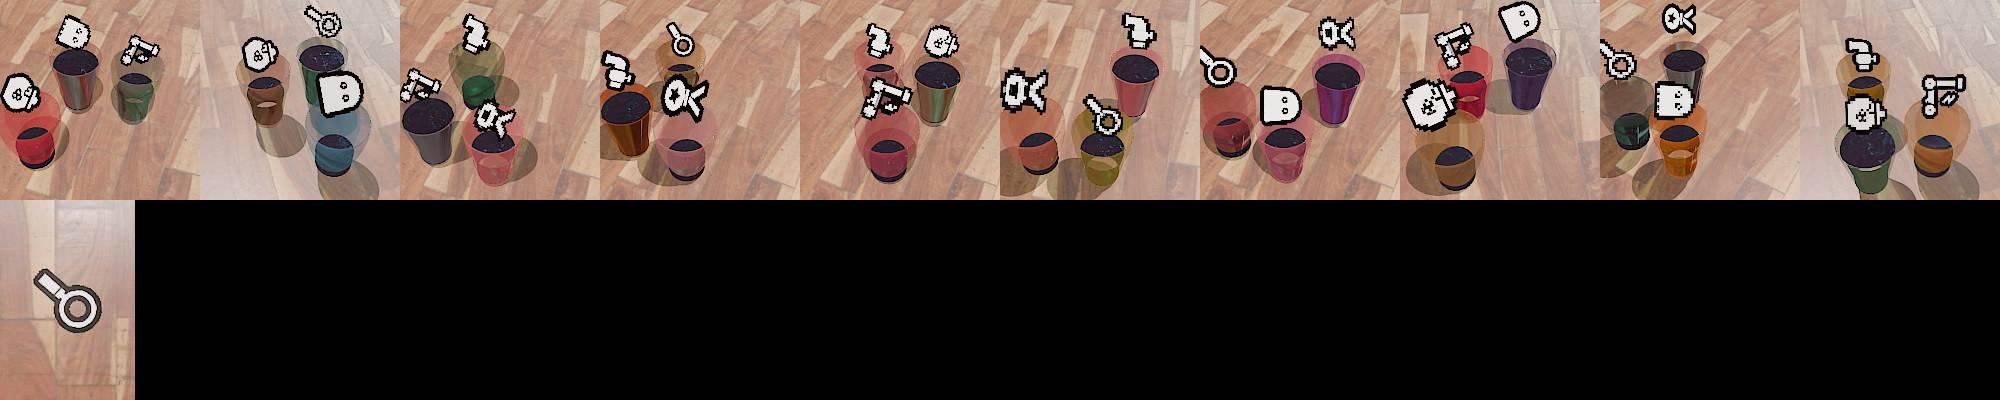icon: (31, 268, 106, 335), (1402, 76, 1458, 134), (312, 69, 365, 118), (999, 66, 1046, 117), (861, 75, 913, 120), (661, 74, 708, 121), (1920, 73, 1967, 118), (1080, 92, 1125, 139), (1435, 22, 1476, 69), (1497, 1, 1542, 43), (1260, 84, 1302, 126), (1, 73, 42, 115), (1598, 38, 1636, 83), (1654, 80, 1696, 120), (1199, 45, 1236, 89), (1844, 92, 1885, 131), (401, 66, 443, 104), (472, 99, 515, 136), (922, 22, 960, 60), (1316, 14, 1356, 51), (302, 3, 342, 39), (241, 36, 279, 73), (55, 14, 93, 51), (602, 48, 635, 90), (119, 33, 161, 66), (1121, 11, 1156, 51), (460, 13, 491, 55), (1661, 3, 1698, 37), (666, 22, 698, 61), (1846, 37, 1878, 74), (866, 22, 895, 60)
